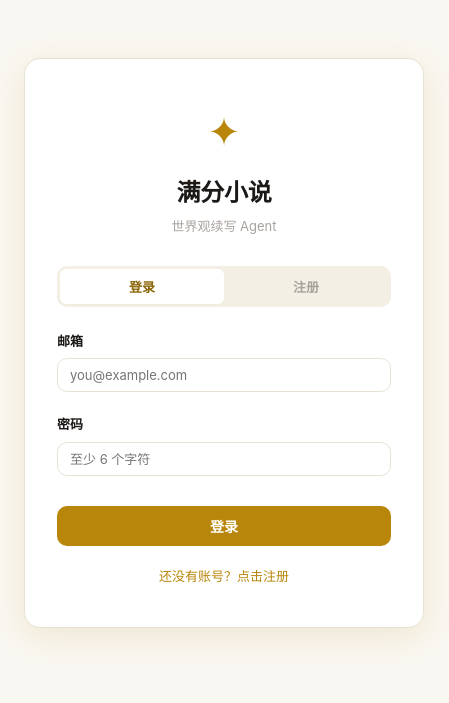
Test case: LoginPage › switches to register mode when clicking register tab
Click the button with class "login-tab" showing "注册".
click(306, 286)  # box [224,269,388,304]
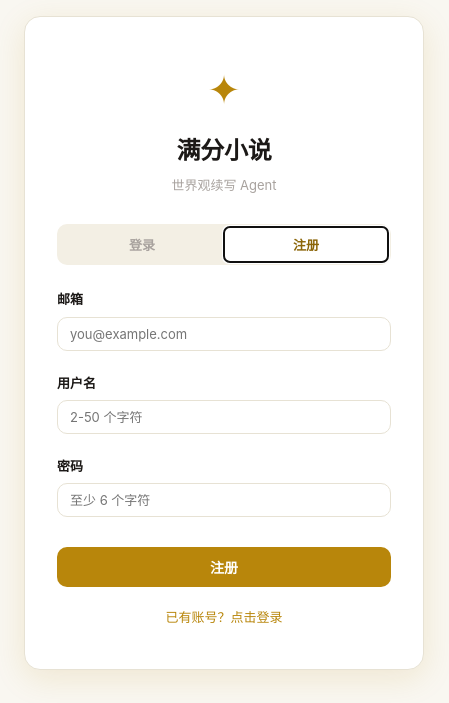
Now the field with placeholder "2-50 个字符" is shown, box [57,400,391,434]
